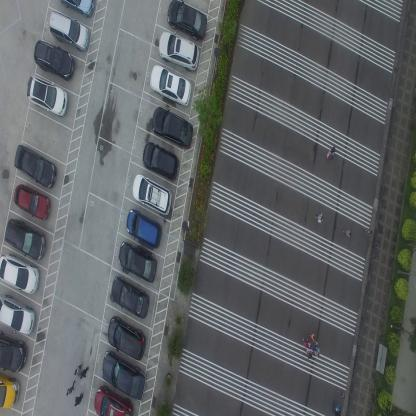car: (101, 349, 146, 402), (13, 142, 57, 190), (149, 63, 192, 107), (158, 29, 200, 73), (152, 106, 193, 151), (26, 75, 68, 118), (32, 38, 74, 80), (48, 10, 90, 52), (4, 217, 46, 259), (132, 172, 172, 216), (107, 316, 146, 361), (117, 240, 157, 283), (110, 275, 149, 319), (167, 0, 207, 42), (0, 253, 40, 295), (0, 292, 35, 336), (141, 142, 179, 182), (12, 182, 51, 220), (126, 208, 162, 249), (93, 384, 134, 416), (0, 328, 27, 373), (0, 372, 20, 411), (59, 0, 95, 19)
